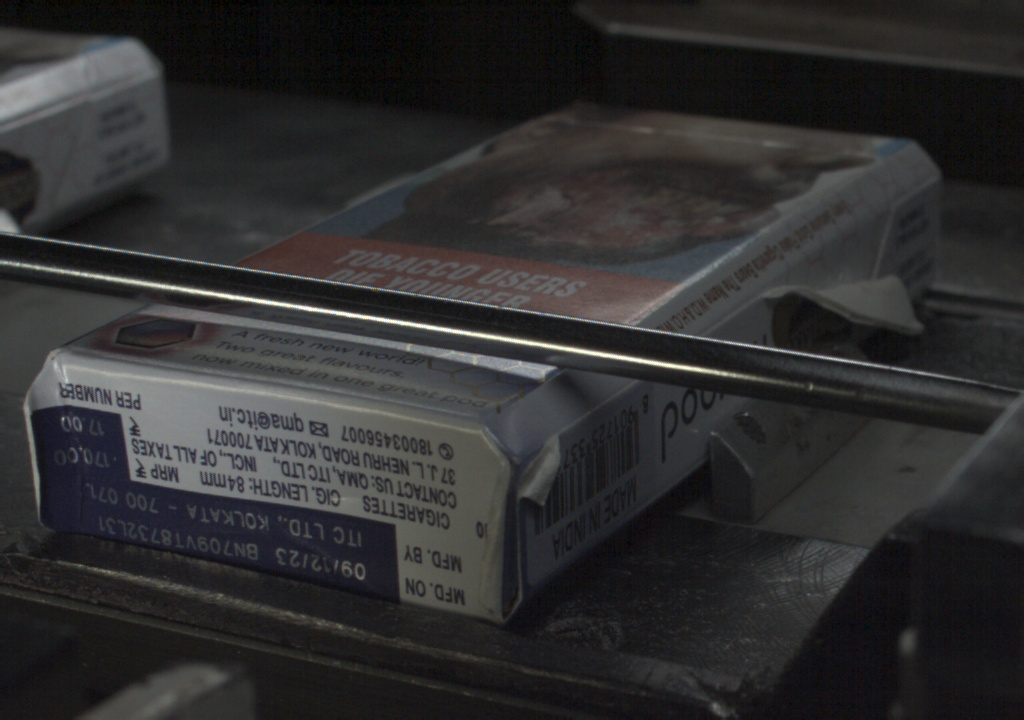g_label: (39, 484, 398, 597)
g_lmiter: (576, 385, 636, 425)
g_miter: (894, 173, 949, 212)
ng_bottom: (24, 354, 71, 529), (485, 424, 517, 626)
ng_lmiter: (768, 236, 917, 331), (519, 433, 572, 509)
